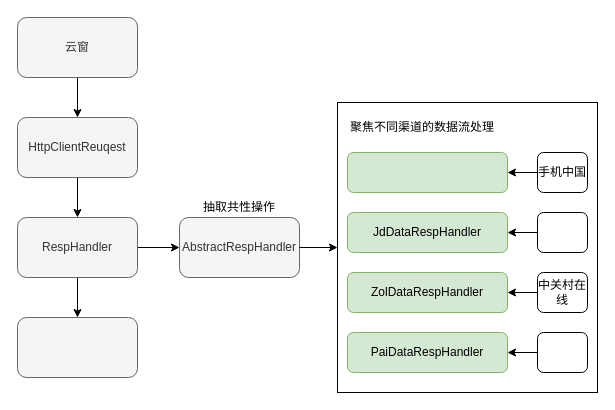
Image size: 615x410. Some labels were removed from this diagram. Here are the shapes that lost their labels. From the top down, the centre of each, then its label:
pixel 427 172: CnmoDataRespHandler
pixel 562 232: 京东
pixel 77 347: ResourceRelease
pixel 562 352: 拍拍
